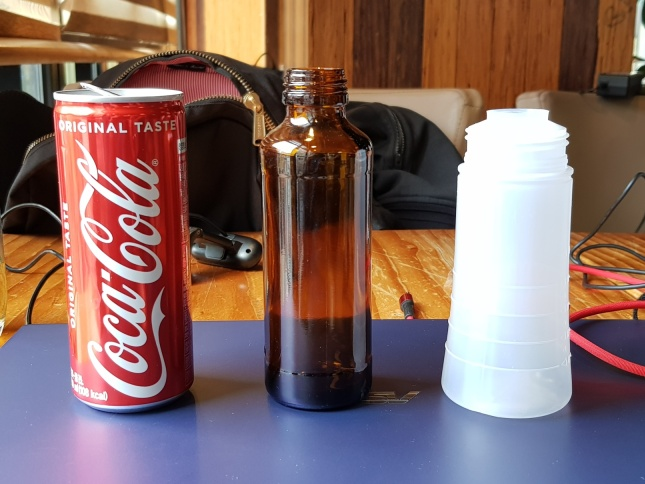Can: (50, 79, 197, 417)
Glass: (254, 61, 377, 415)
Plastic: (434, 103, 579, 421)
